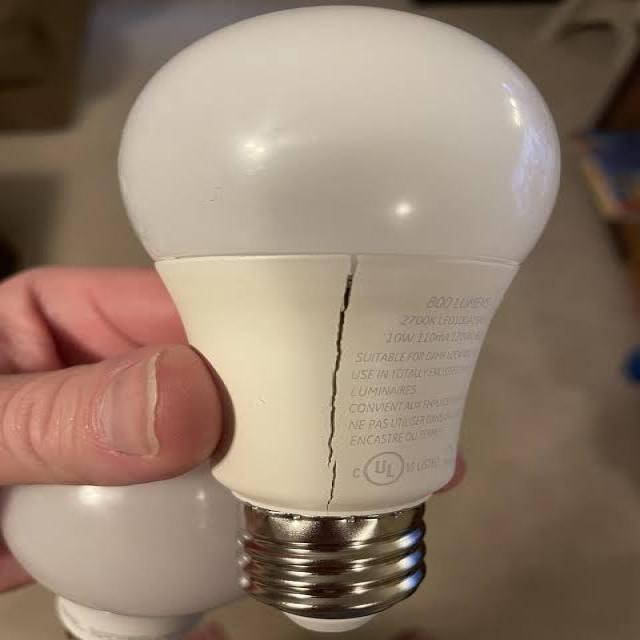bulb: (76, 0, 565, 626)
